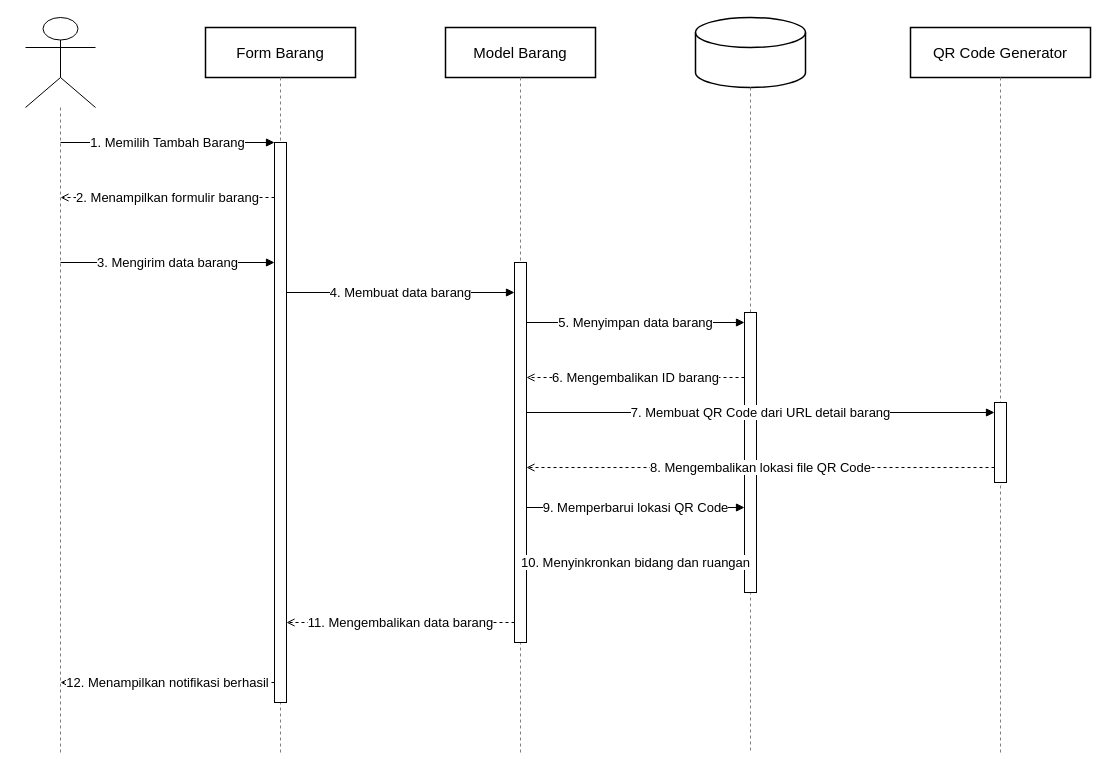
Image size: 1109x772. Some labels were removed from this diagram. Each missing label, with the box of its shape:
Admin / Staff: (24, 16, 96, 108)
Database: (694, 16, 806, 88)
